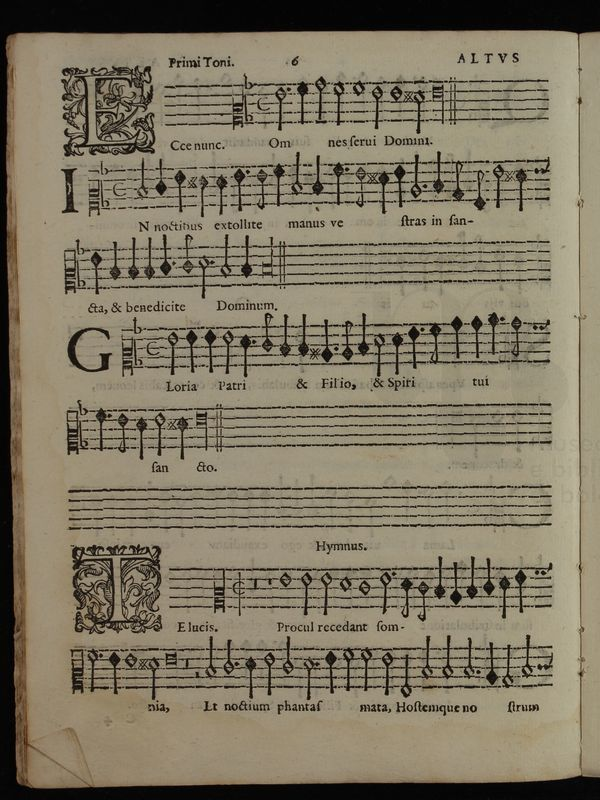Imincut: (225, 565, 252, 621)
breve rest: (250, 562, 258, 614)
c clef_9: (206, 568, 229, 618)
custos_4: (535, 551, 560, 576)
fusa_6: (397, 570, 415, 624)
fusa_7: (413, 574, 431, 628)
minim_5: (300, 566, 316, 619), (376, 566, 391, 618), (322, 563, 333, 618)
point: (385, 566, 399, 583)
semibreve rest: (264, 558, 274, 613)
semibreve_5: (276, 564, 295, 593)
semibreve_6: (336, 568, 354, 597)
semibreve_7: (355, 573, 370, 602)
semiminim_5: (513, 564, 528, 619)
semiminim_6: (497, 567, 512, 623)
semiminim_7: (481, 550, 496, 602)
semiminim_8: (431, 551, 448, 604), (464, 551, 479, 606)
semiminim_9: (448, 555, 464, 609)
